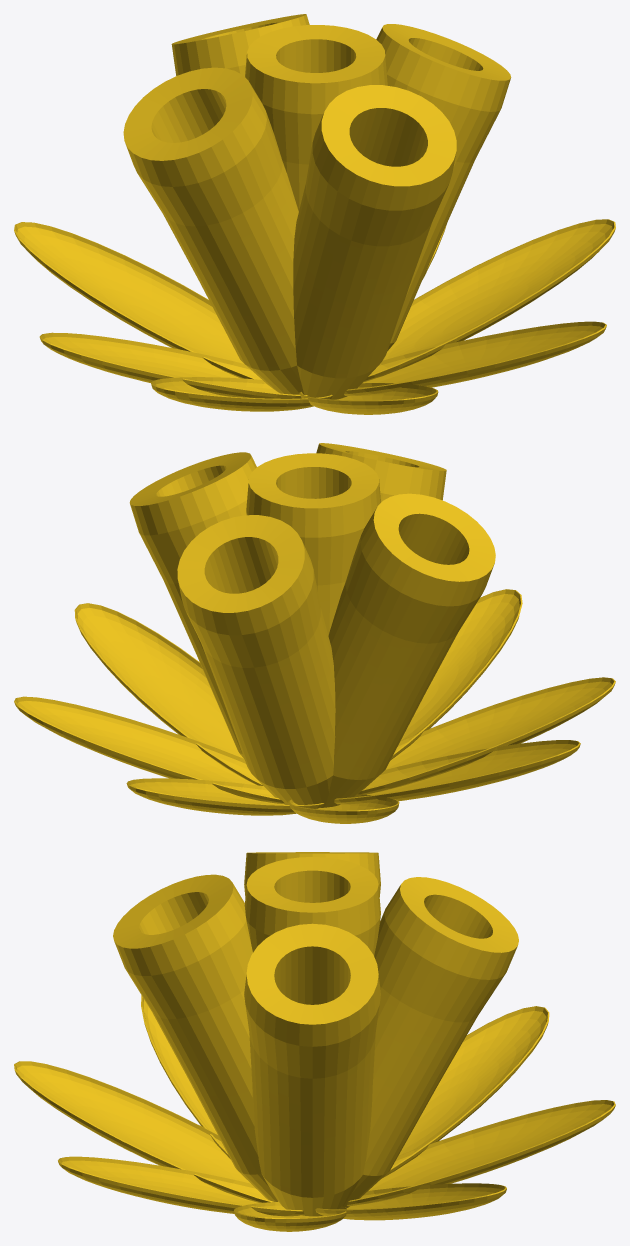
3 renders of one model, top to bottom at view 1: azimuth 30°, elevation 25°; view 2: azimuth 150°, elevation 25°; view 3: azimuth 270°, elevation 25°, orthographic. The views are drawn at different scales.
Visible parts, largest first — view 1: Sphere.005; view 2: Sphere.005; view 3: Sphere.005.
Part boxes in pixels (bbox=[...]): Sphere.005: bbox=[14, 14, 615, 414]; Sphere.005: bbox=[14, 443, 615, 823]; Sphere.005: bbox=[14, 852, 615, 1231].
Size of the model in its own units: 1.18 by 0.6941 by 1.17.
